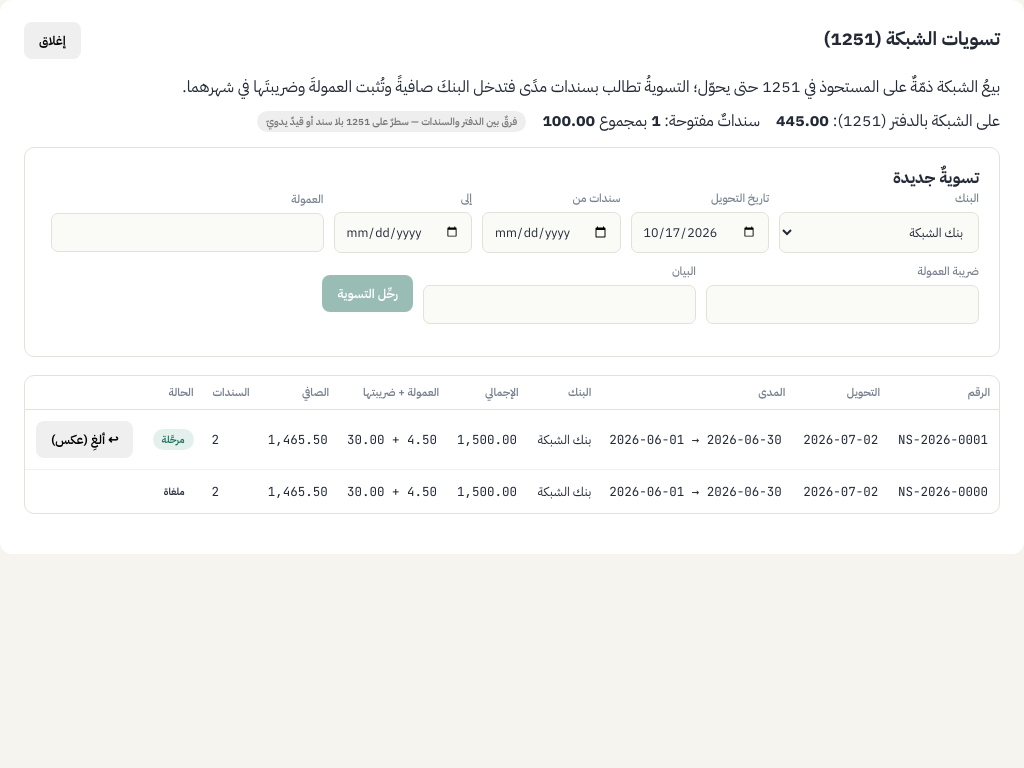
لوحةُ تسويات الشبكة › الإلغاءُ عكسٌ للمرحَّلة وحدَها، والفرقُ بين الدفتر والسندات يُعلَن كما قاله الخادم
Expected: the text "NS-2026-0000" is shown, [889,470,999,513]
Expected: the text with test id "network-gap" is shown, [258,110,526,132]
Click the button "↩ ألغِ (عكس)" at coordinates (85, 440), box [36,421,133,458]
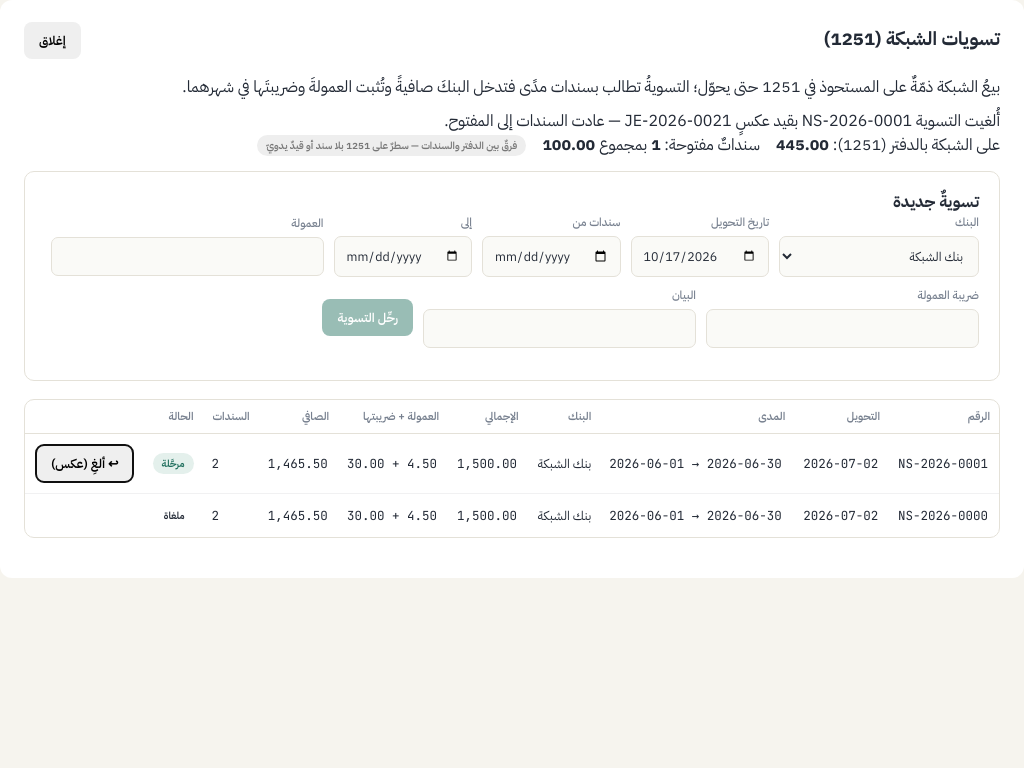
Expected: the text with test id "settlement-notice" shows "JE-2026-0021", [444,109,1000,133]
